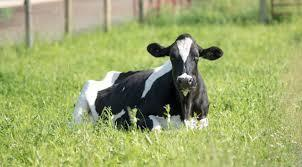cow: (73, 33, 223, 133)
